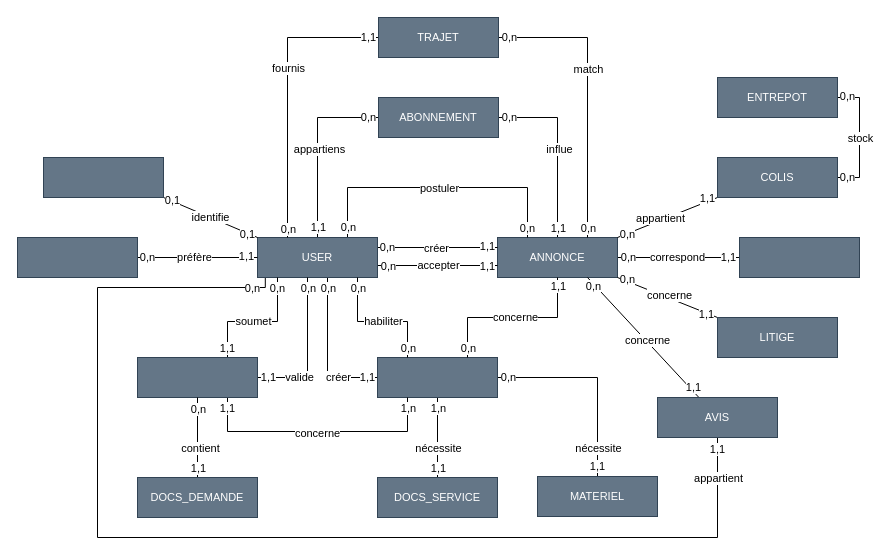
This 890x556 diagram has some shape labels left out. Each missing label, with the centre of its shape:
"DEMANDE" goes at point (197, 377).
"LANGUE" goes at point (77, 257).
"NFC" goes at point (103, 177).
"PAIEMENT" goes at point (799, 257).
"SERVICE" goes at point (437, 377).
